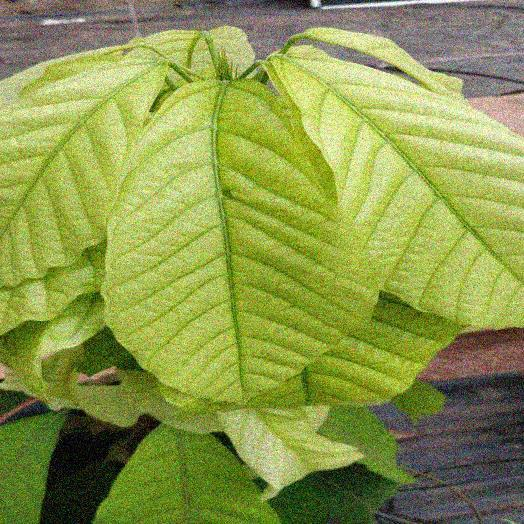Iron: (104, 80, 356, 400), (267, 46, 523, 326), (0, 58, 167, 286), (247, 295, 458, 407), (93, 425, 278, 523), (219, 407, 362, 498), (0, 293, 101, 401), (0, 244, 104, 335), (71, 373, 219, 432)
